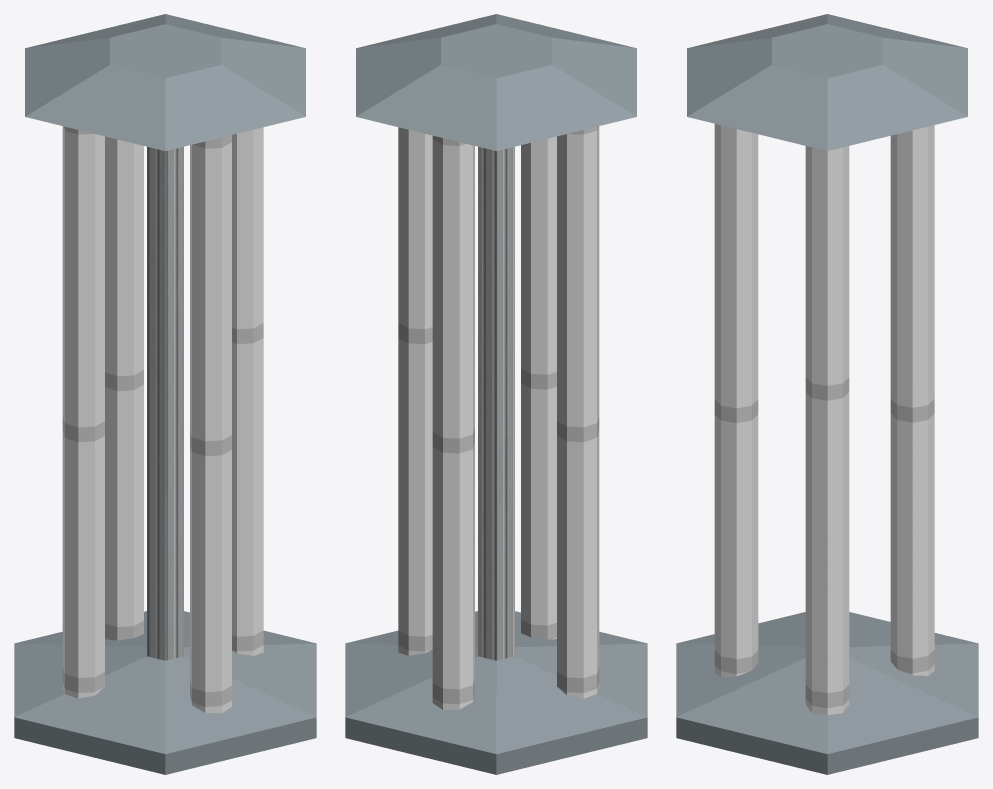
File: lamp.fbx
3 views of the same model, side by side, from view 1: azimuth 30°, elevation 25°; view 2: azimuth 150°, elevation 25°; view 3: azimuth 270°, elevation 25° (orthographic).
Visible parts, largest first — view 1: lamp:polySurface7; view 2: lamp:polySurface7; view 3: lamp:polySurface7.
Boxes of the visible parts, x1,y1,x2,y2 form: lamp:polySurface7: (14,14,316,774); lamp:polySurface7: (345,14,647,774); lamp:polySurface7: (676,14,978,774).
Size of the model in its own units: 200 by 410 by 173.
1 material, 1 textured.
